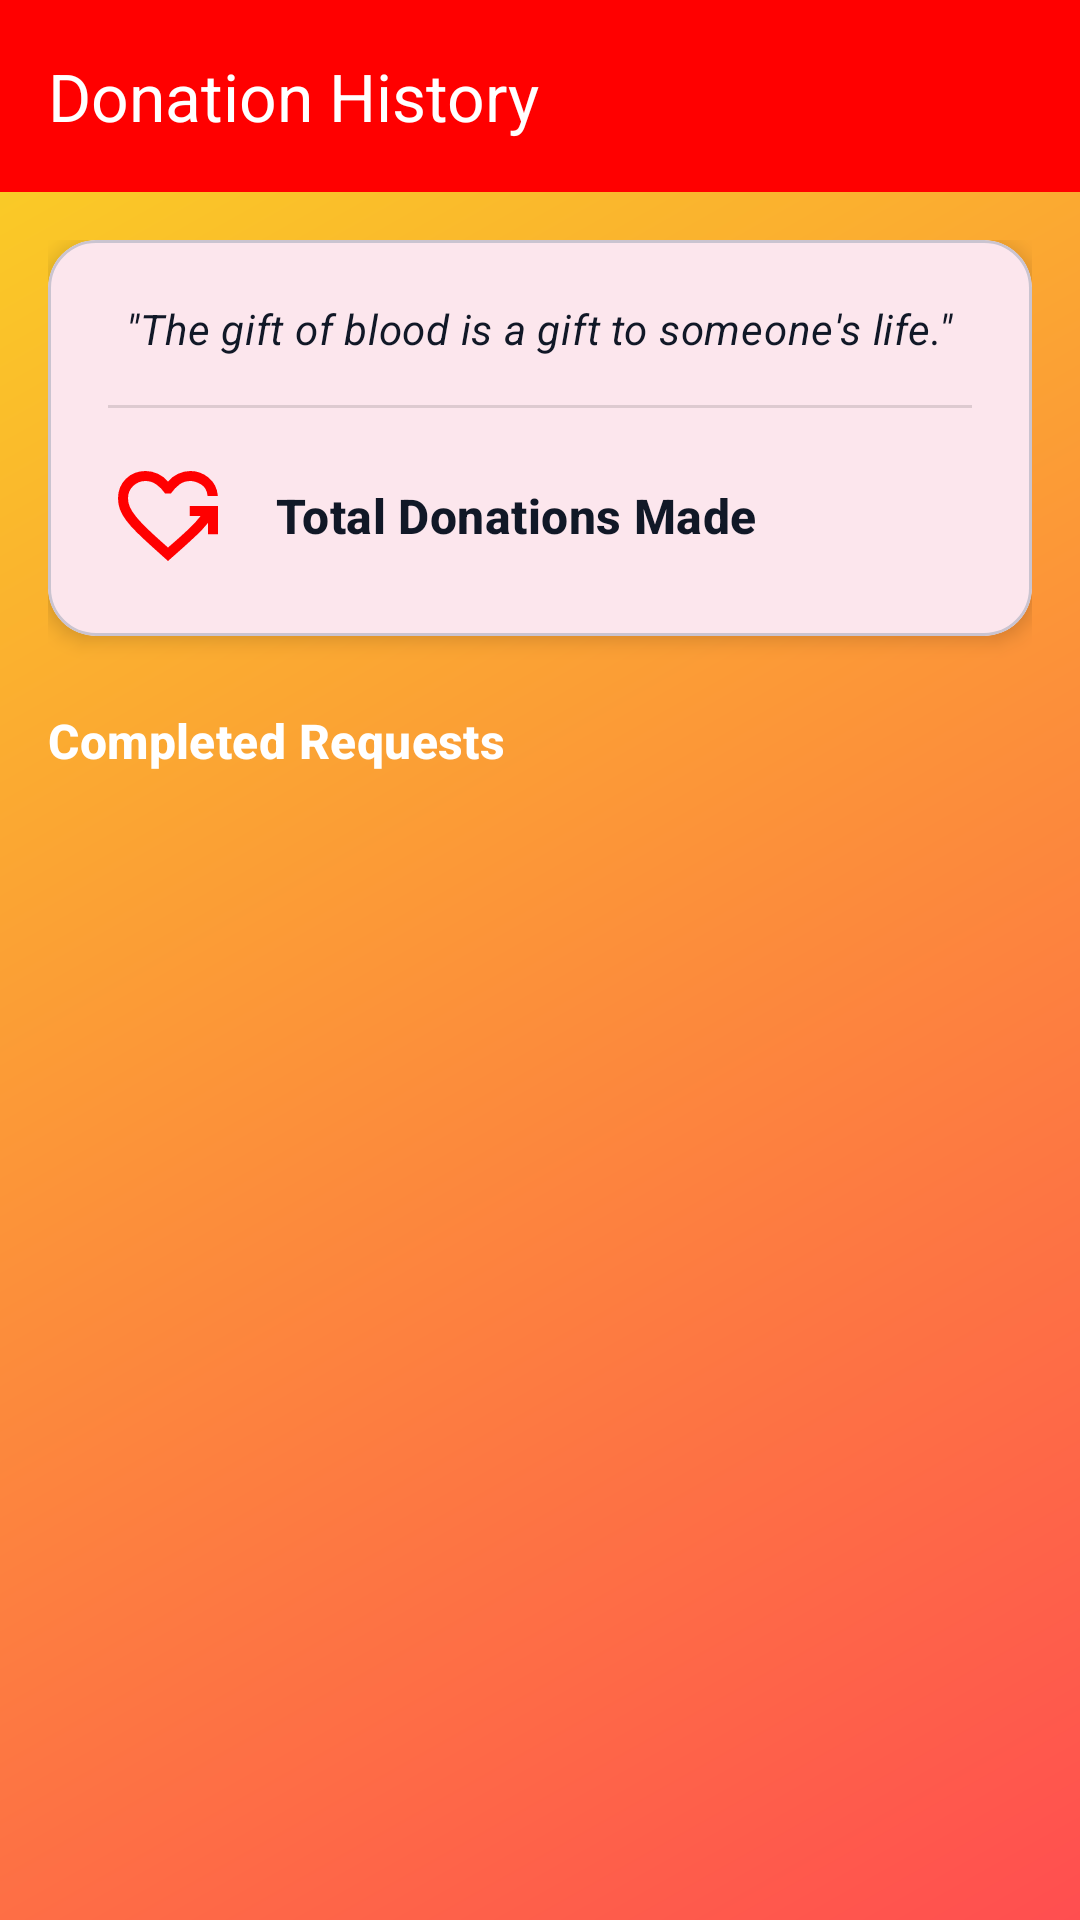

Named icons in this screenshot (1080px×1920px) and their centers, (x=x, y=y):
blood donate: (x=168, y=516)
